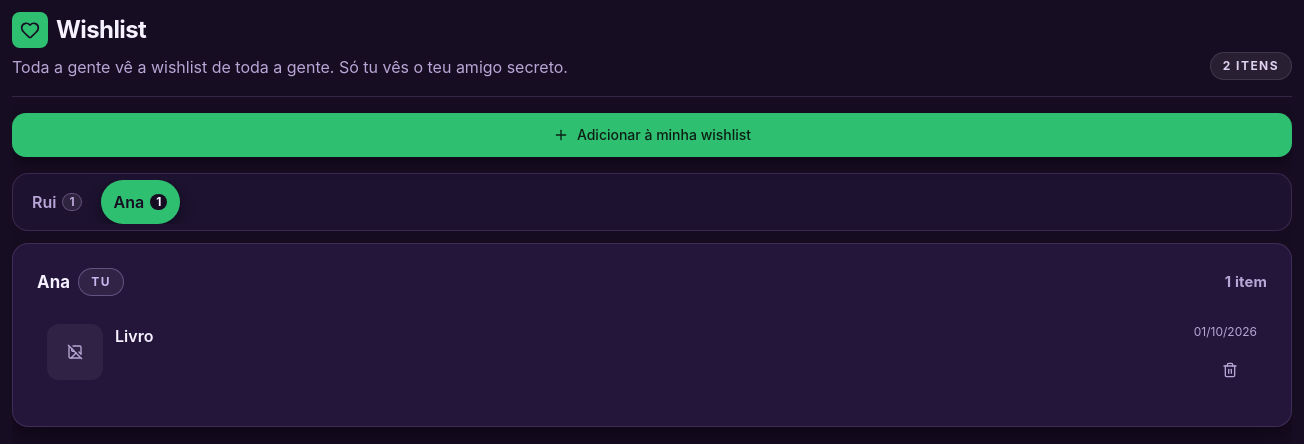
CanhoesWishlistModule › shows another member's list read-only
The width and height of the screenshot is (1304, 444).
Step 1. Click the button "Rui 1" → (57, 202), box x1=19 y1=180 x2=95 y2=224
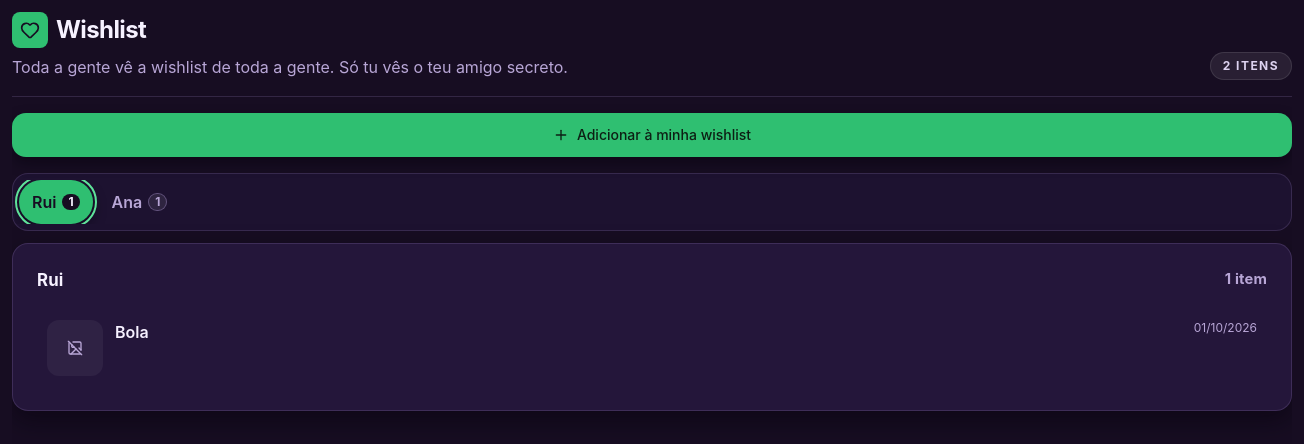
Expected: the text "Bola" is shown, x1=115 y1=322 x2=149 y2=342
